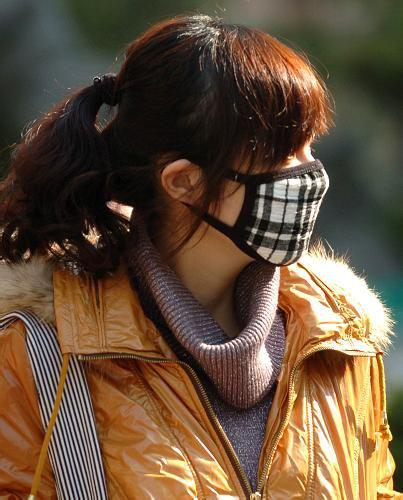OK: (190, 121, 335, 265)
